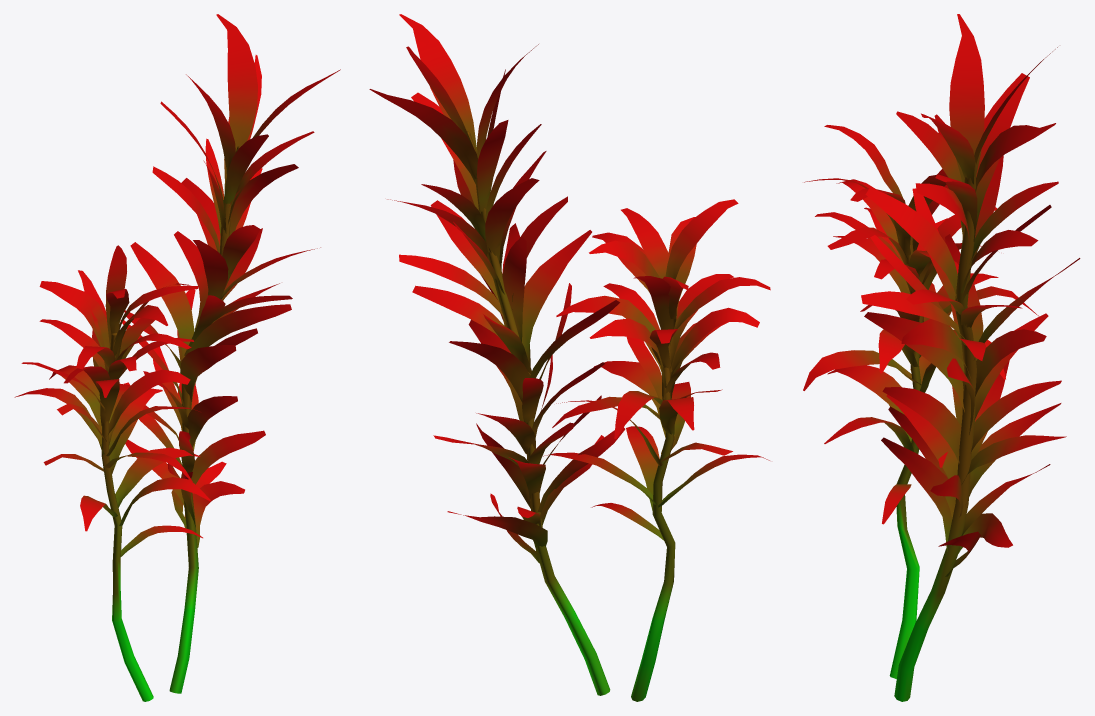
File: Small_Tree.fbx
3 views of the same model, side by side, from view 1: azimuth 30°, elevation 25°; view 2: azimuth 150°, elevation 25°; view 3: azimuth 270°, elevation 25° (orthographic). The views are drawn at different scales.
Visible parts, largest first — view 1: _2e7c_Var5_LOD0; view 2: _2e7c_Var5_LOD0; view 3: _2e7c_Var5_LOD0.
Boxes of the visible parts, <box> form: _2e7c_Var5_LOD0: <box>14,14,340,701</box>; _2e7c_Var5_LOD0: <box>369,14,770,701</box>; _2e7c_Var5_LOD0: <box>803,14,1080,701</box>.
Size of the model in its own units: 40.77 by 77.36 by 27.19.
